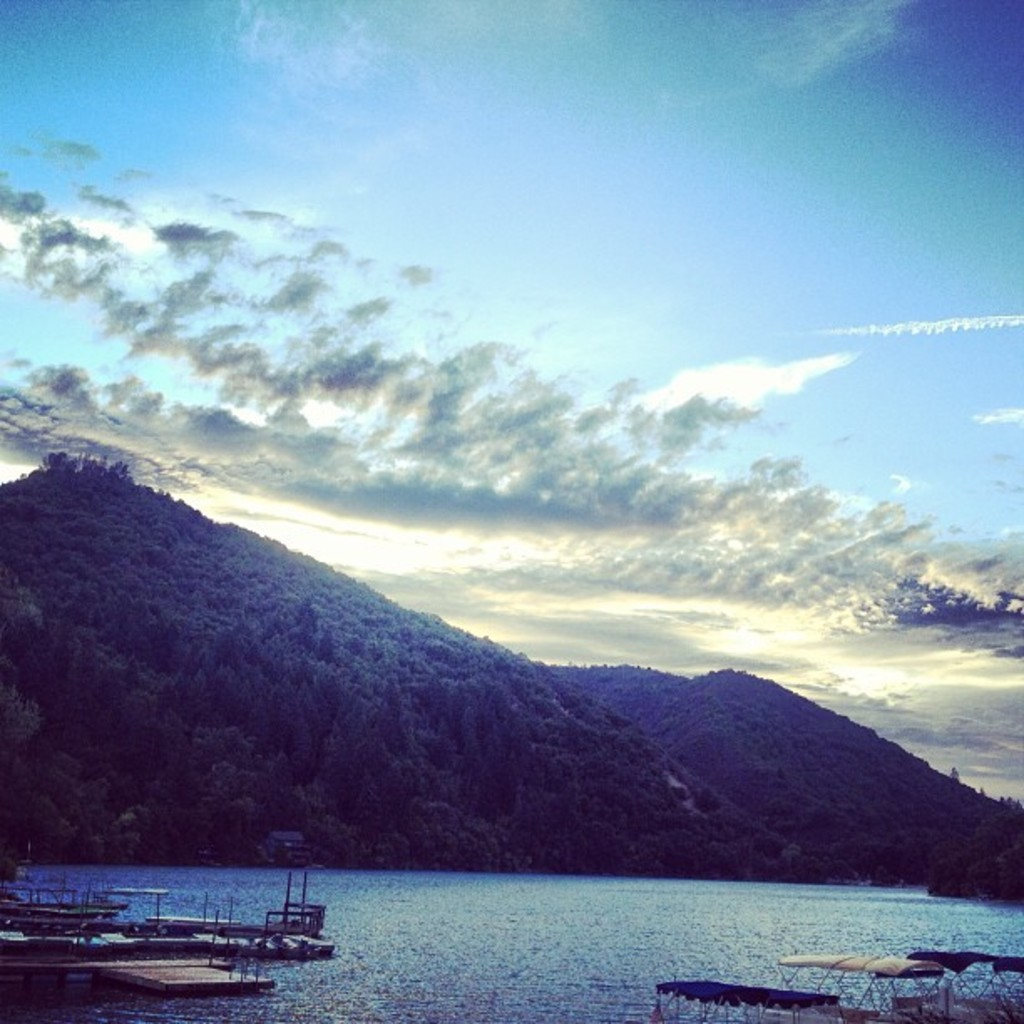Tree: (212, 513, 543, 719), (0, 453, 225, 732), (535, 684, 798, 881), (309, 670, 443, 855), (5, 754, 209, 866), (512, 757, 635, 873), (174, 702, 289, 811), (458, 677, 540, 823), (413, 799, 525, 883), (210, 816, 324, 878), (920, 834, 980, 903), (100, 691, 172, 747), (0, 701, 45, 783), (958, 804, 1022, 860), (972, 841, 1022, 905)
